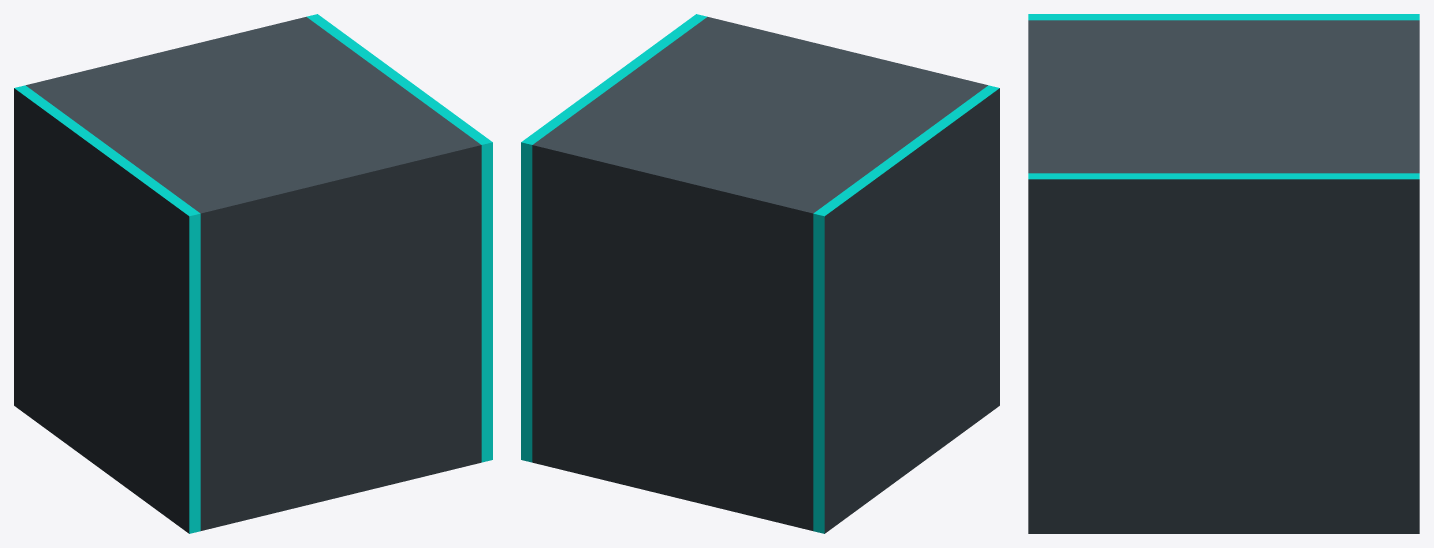
Rendered from StopperBox.fbx.
3 renders of one model, left to right at view 1: azimuth 30°, elevation 25°; view 2: azimuth 150°, elevation 25°; view 3: azimuth 270°, elevation 25°, orthographic. The views are drawn at different scales.
Parts seen in each view (by area): view 1: pCube4; view 2: pCube4; view 3: pCube4.
Part boxes in pixels (box(x1,y1,x2,y2)): pCube4: box(14, 14, 492, 533); pCube4: box(521, 14, 999, 533); pCube4: box(1028, 14, 1419, 533).
Bounding box in the file's own units: 100 × 100 × 100.
